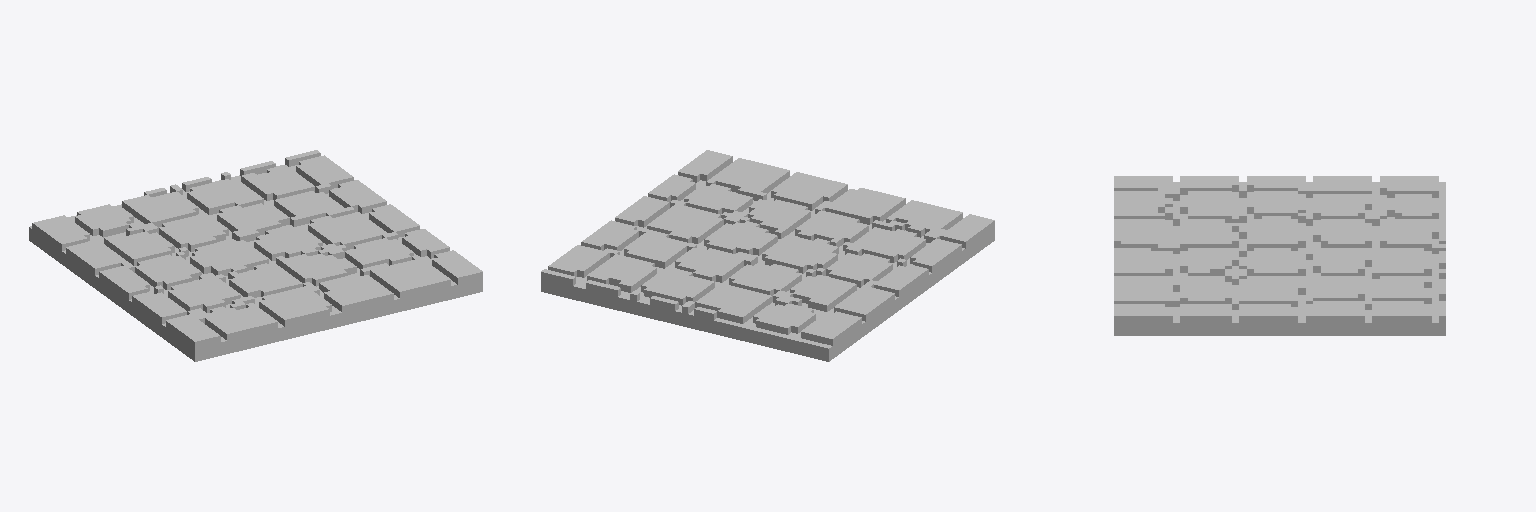
Rendered from Floor.obj.
3 views of the same model, side by side, from view 1: azimuth 30°, elevation 25°; view 2: azimuth 150°, elevation 25°; view 3: azimuth 270°, elevation 25° (orthographic).
Bounding box in the file's own units: 45 × 3 × 45.